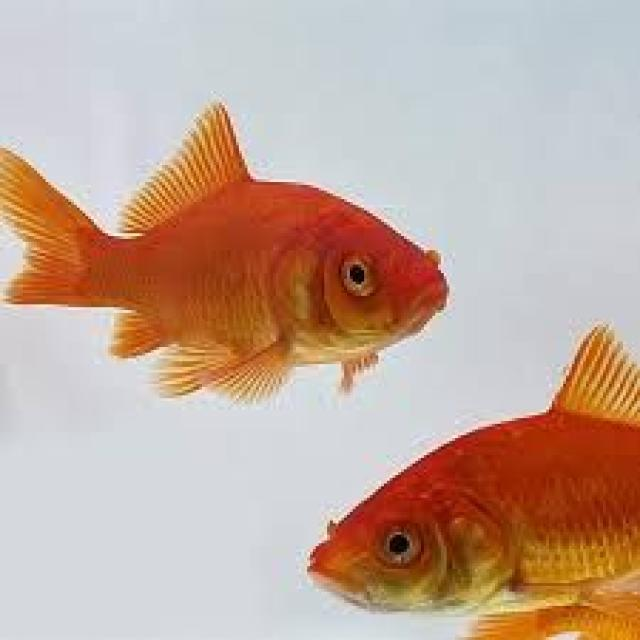Gold-Fish: (0, 57, 479, 361), (304, 347, 640, 640)
